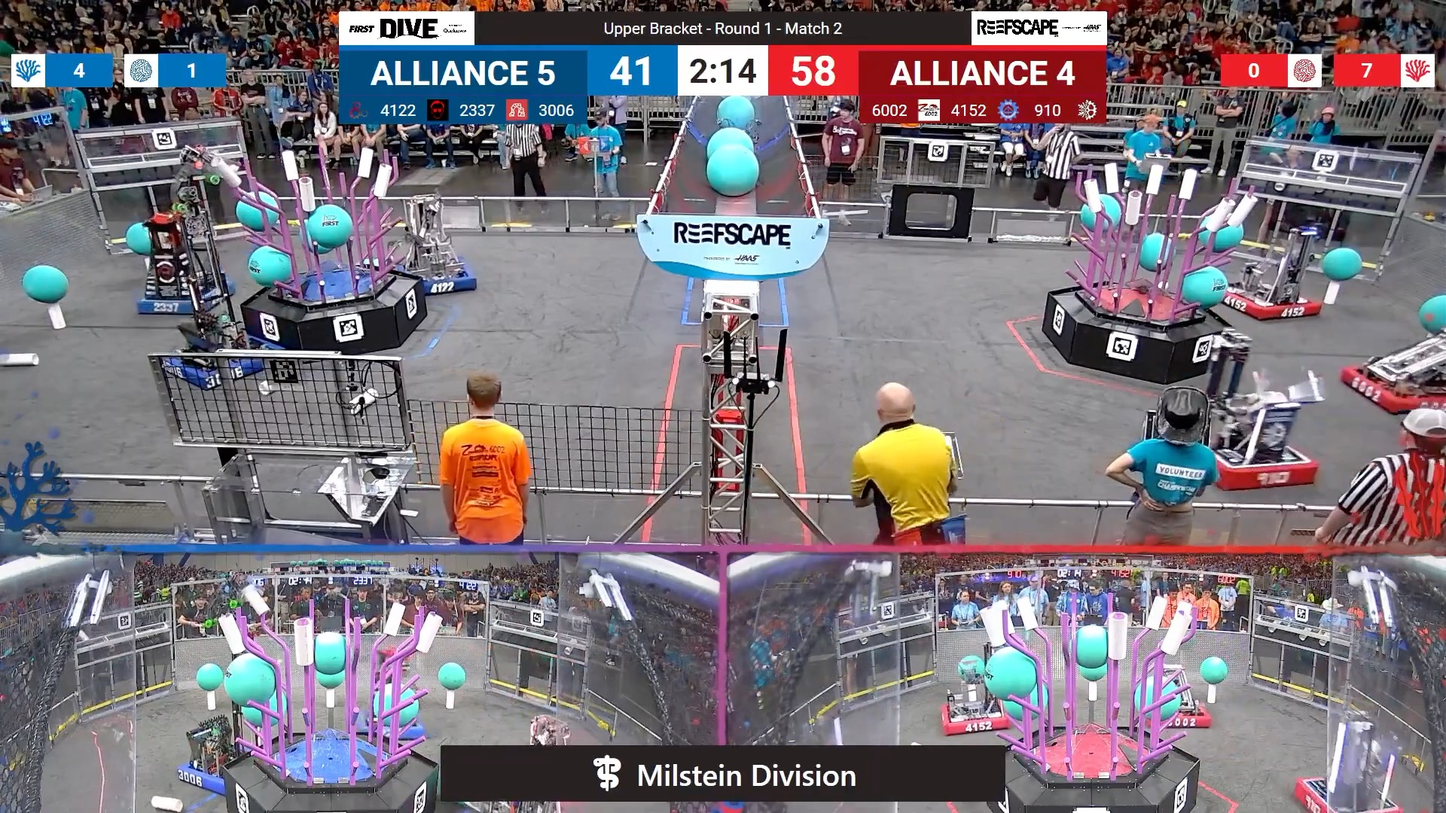bumpers: (1200, 428, 1326, 498), (1338, 359, 1445, 418), (158, 341, 278, 390), (1211, 283, 1329, 326), (131, 273, 235, 321), (1287, 777, 1417, 812), (934, 693, 1022, 739), (171, 748, 246, 794), (1130, 693, 1218, 732), (390, 257, 483, 293)
